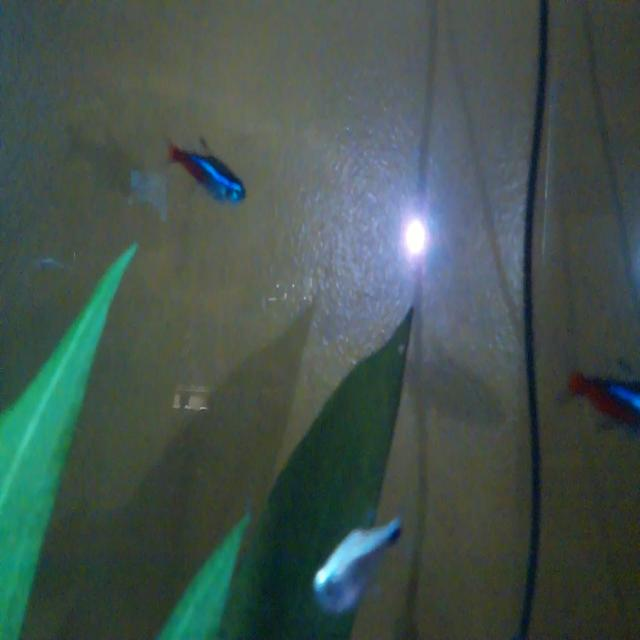fish: (299, 508, 413, 617), (157, 113, 252, 221)
